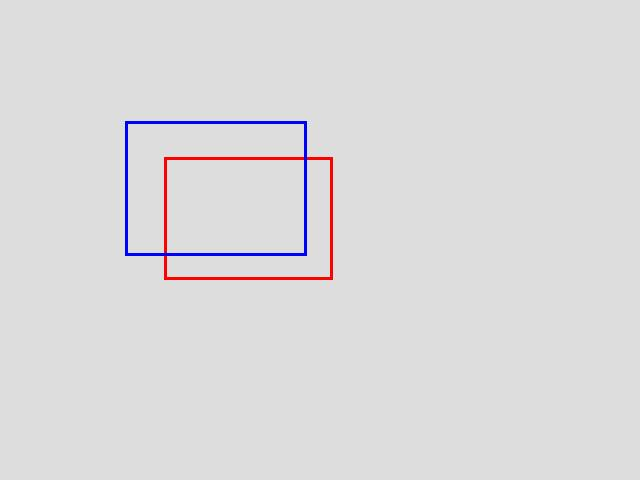car: (125, 121, 306, 255)
person: (164, 157, 332, 279)
